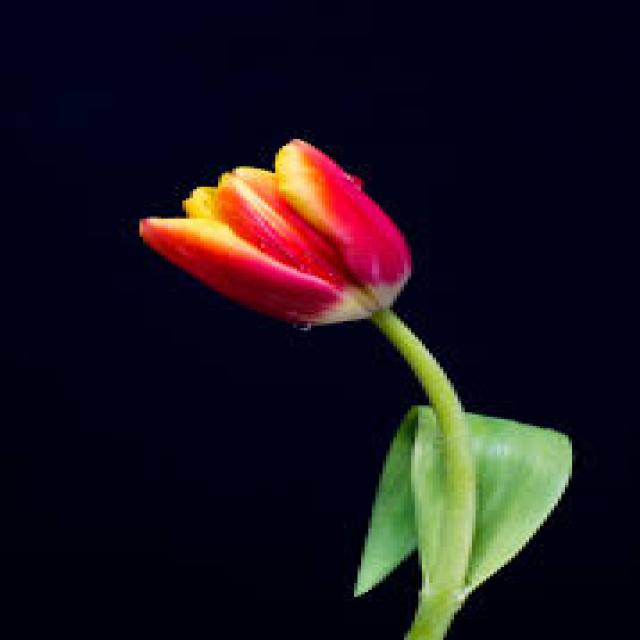tulip: (87, 117, 504, 350)
